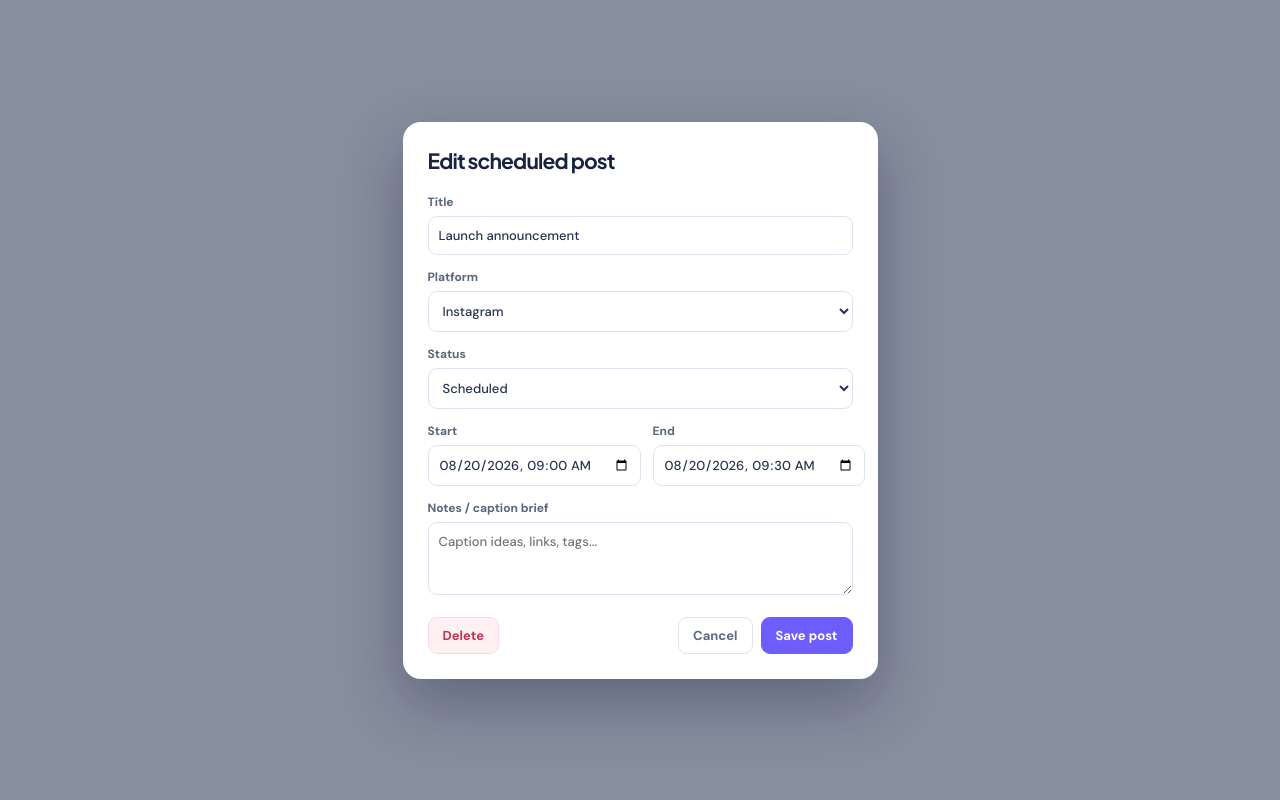
Test: PostModal › shows validation feedback when the end time is before the start time
Step 1. Clear the field labelled "End" → (758, 465), box [652,444,864,486]
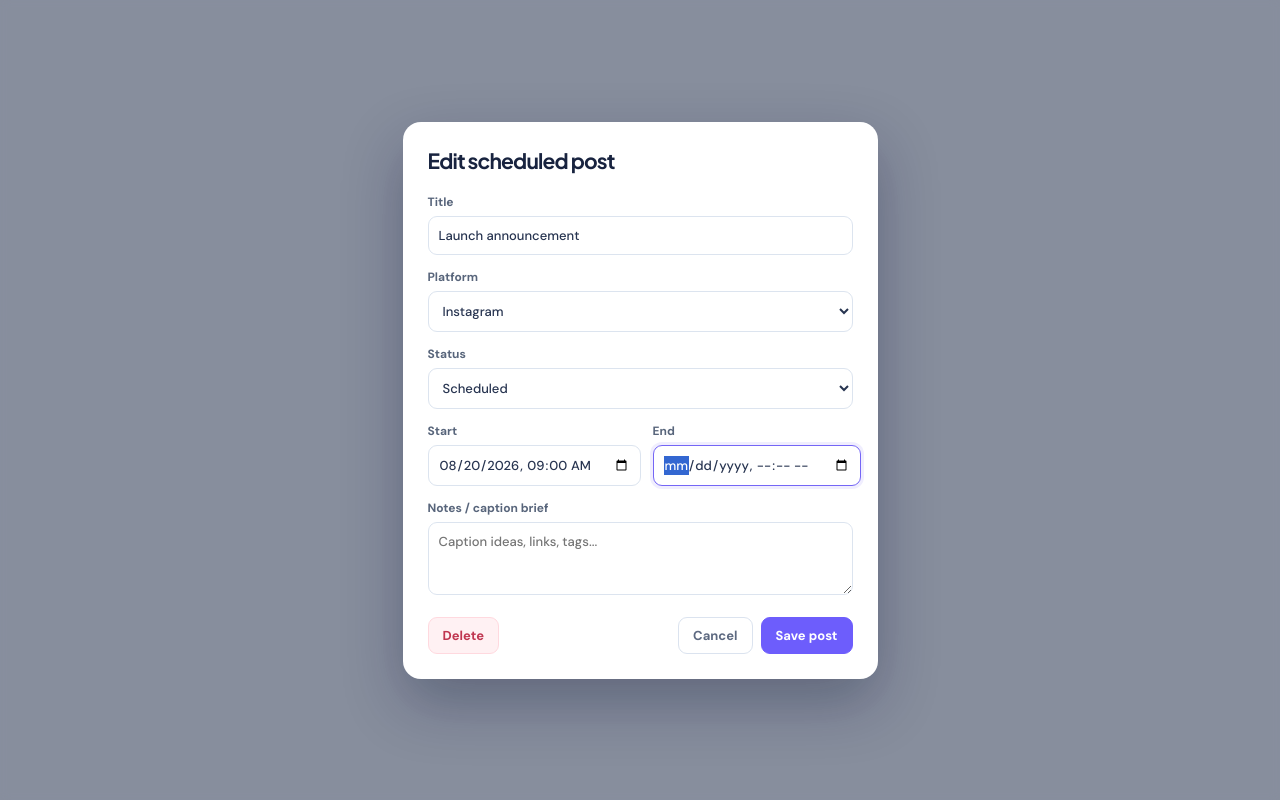
Step 2. Type "2026-08-20T08:30" into the field labelled "End" → (756, 465), box [652,444,860,486]
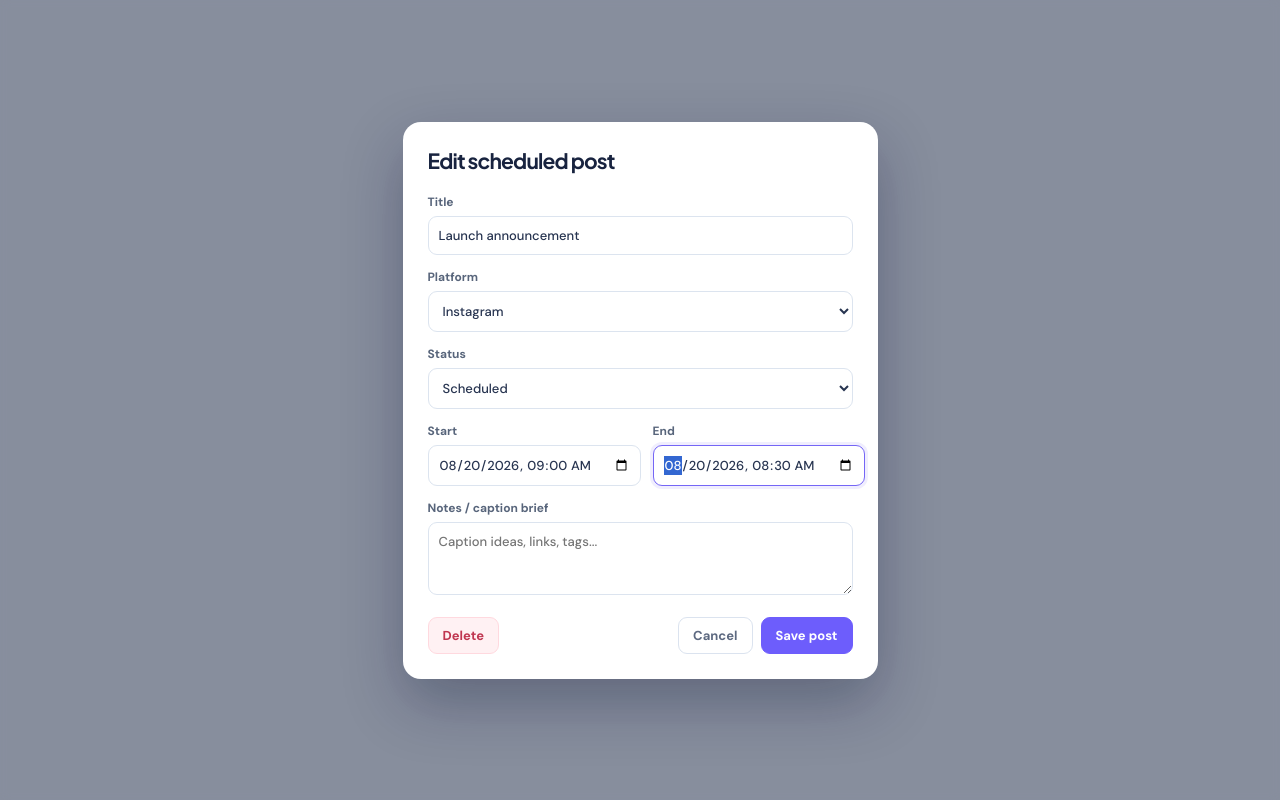
Step 3. Click the button "Save post" → click(806, 635), box [760,616,852,654]
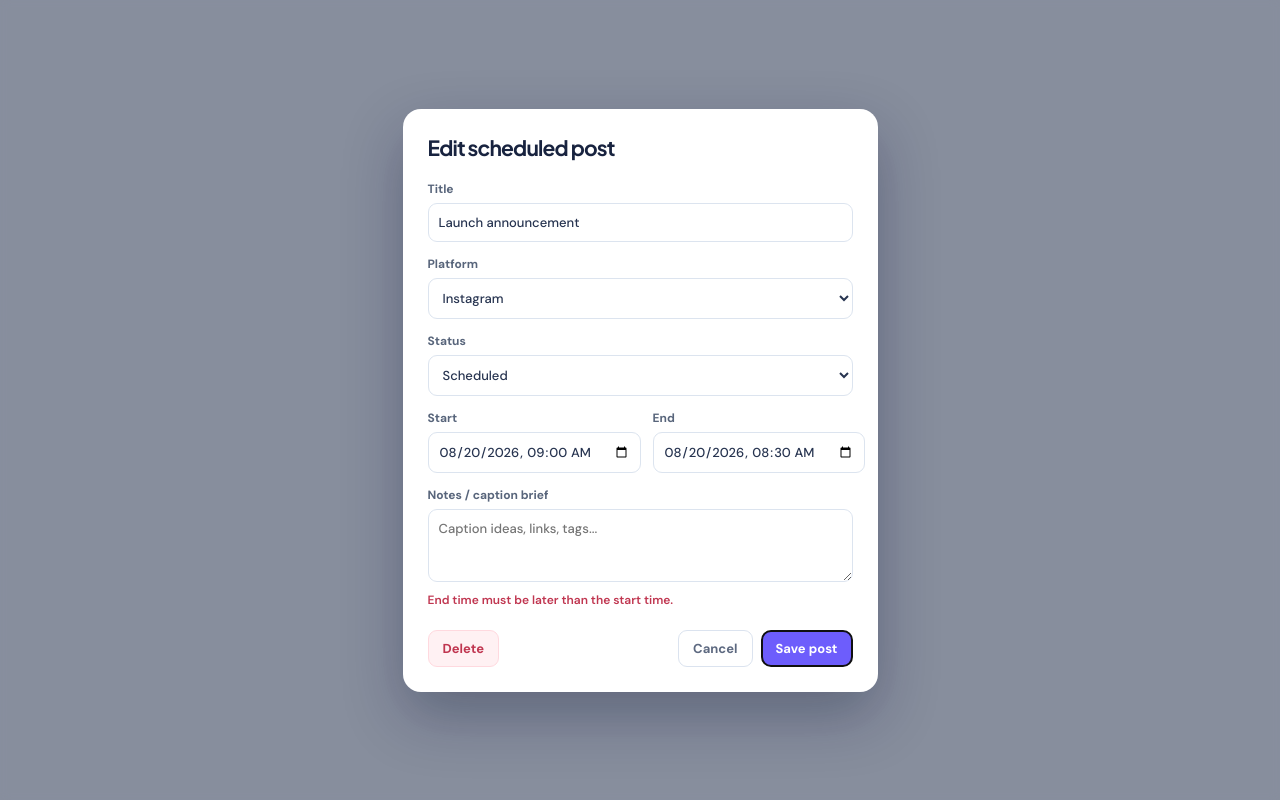
Check: the message reads "End time must be later than the start time.", box [428,592,673,608]
